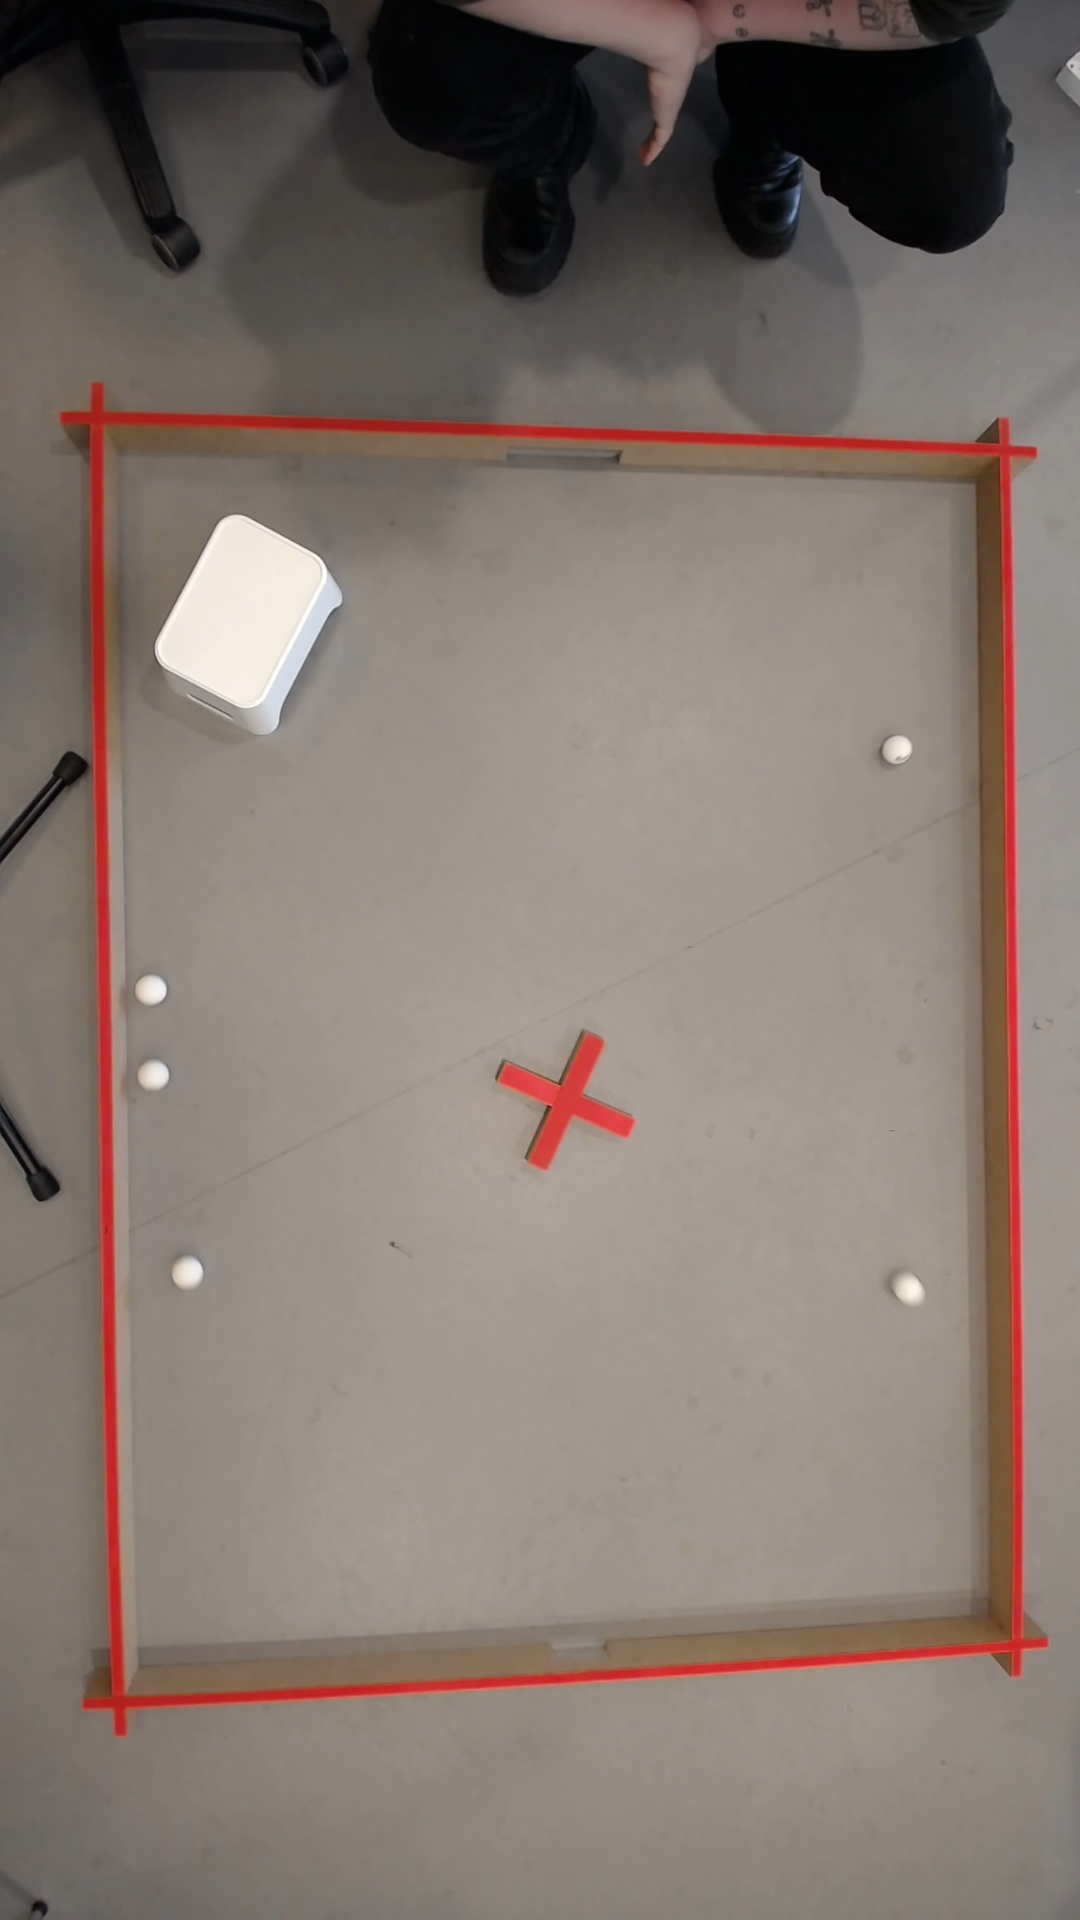balls: (144, 505, 356, 731), (132, 969, 170, 1007), (135, 1056, 173, 1093), (891, 1271, 928, 1307), (174, 1259, 203, 1284)
car: (881, 732, 914, 761)
